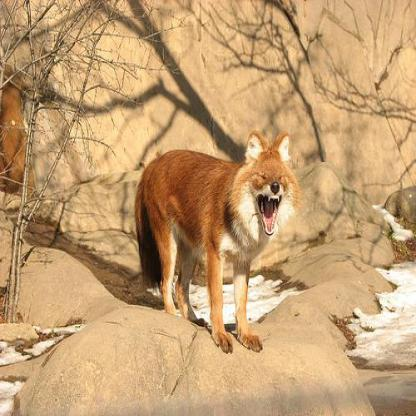dhole: (134, 130, 298, 352), (0, 63, 35, 193)
